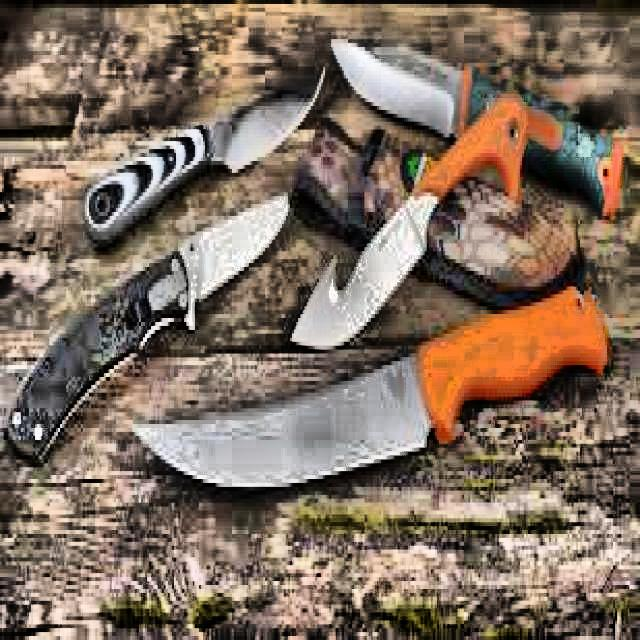knife: (136, 276, 618, 504), (0, 186, 298, 488), (289, 86, 526, 367), (331, 28, 636, 232), (81, 55, 326, 236)
